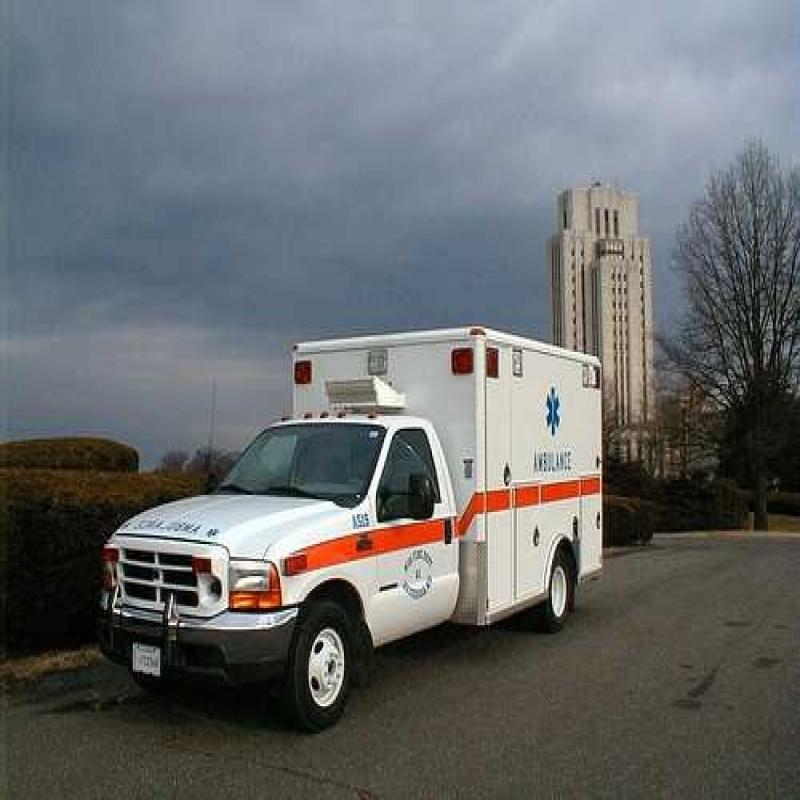AmbulanceSiren: (446, 338, 514, 403), (288, 346, 323, 388)
